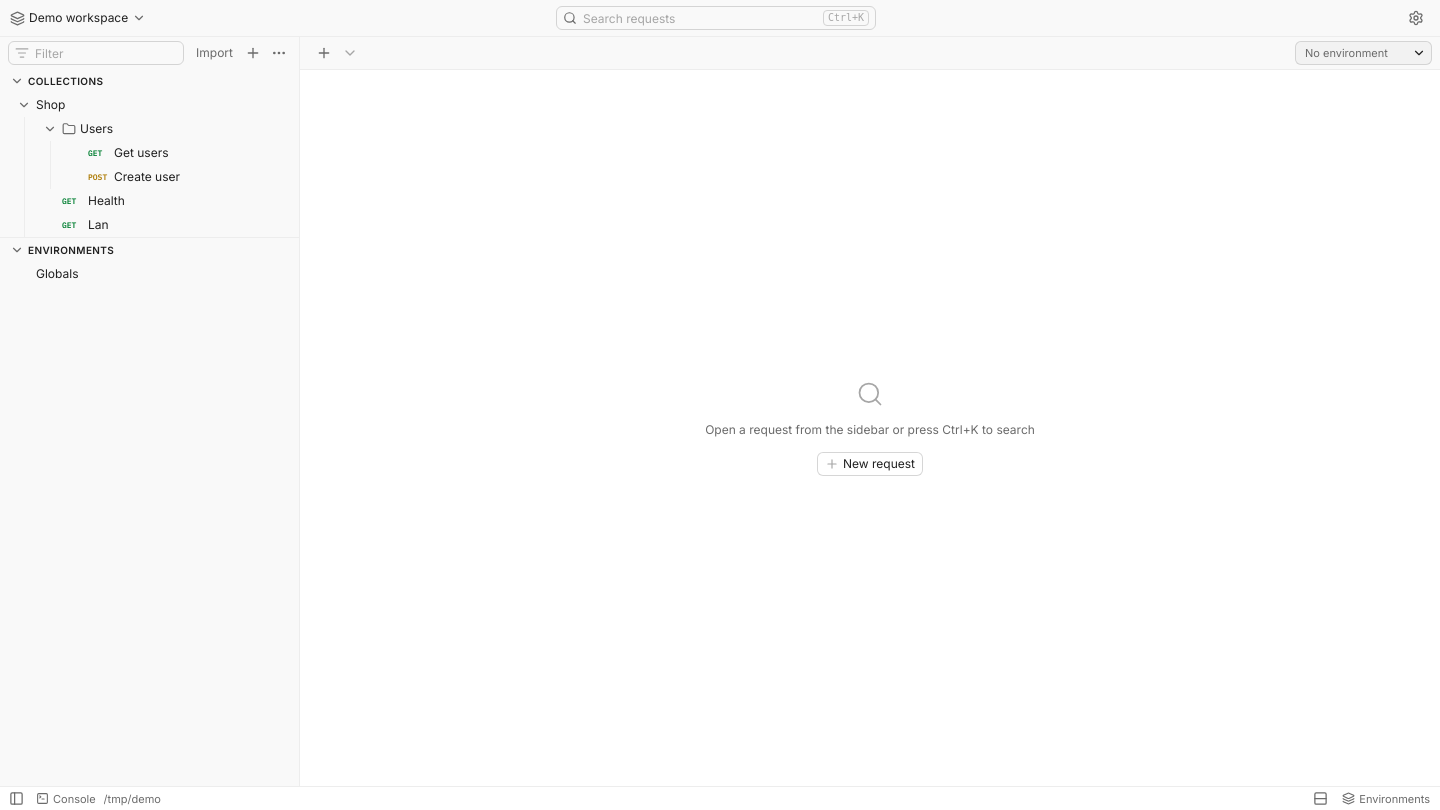
configuration › flags Think time (ms) = 60001 and disables Start
Right-click the list item "Health": (93, 200) left=62, top=193, right=125, bottom=208
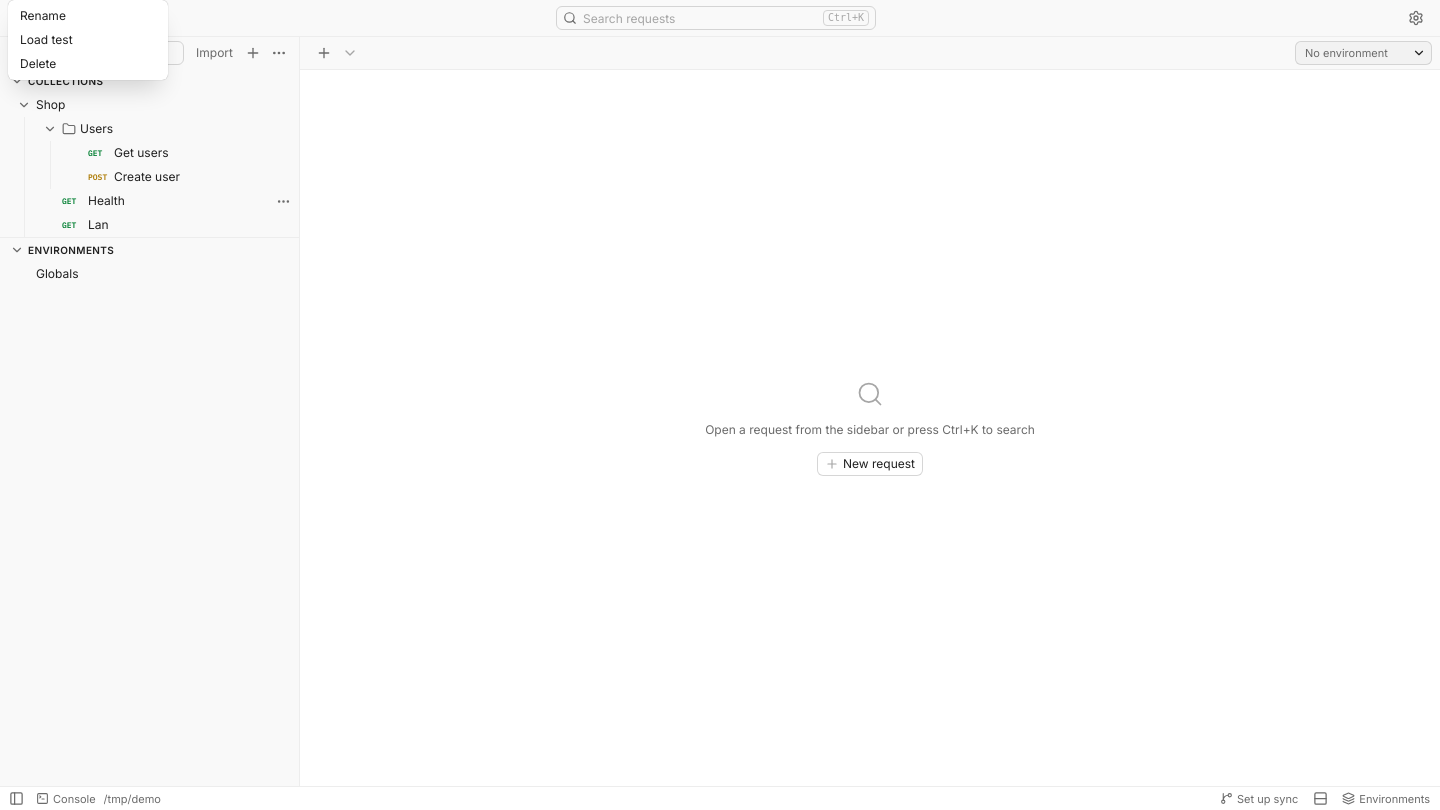
Click the menu item "Load test": click(88, 40) left=12, top=28, right=164, bottom=52
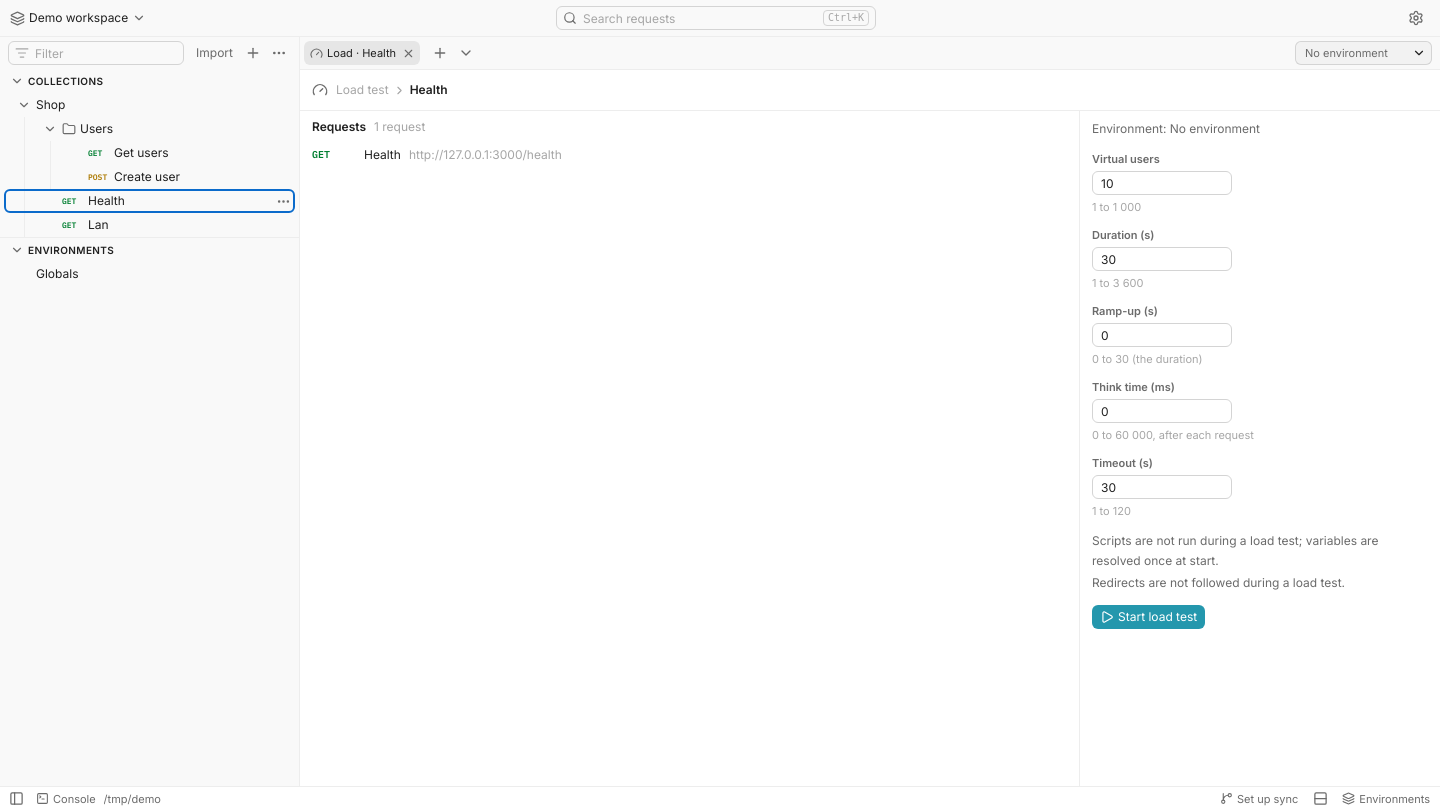
Replace the text in the number field labelled "Think time (ms)" with "60001": (1162, 411) left=1092, top=399, right=1232, bottom=423
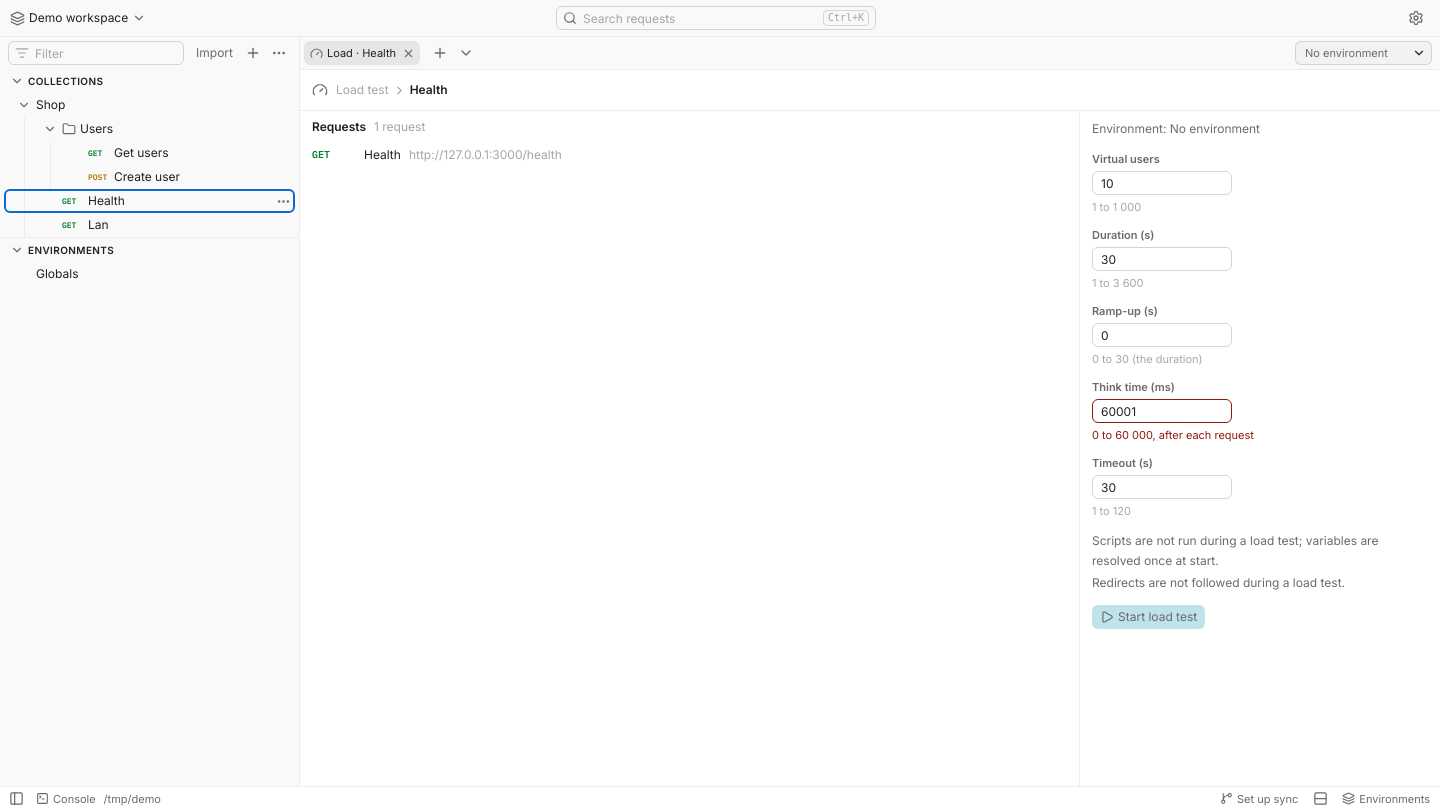
Expected: the button "Start load test" is disabled, left=1092, top=605, right=1205, bottom=629
